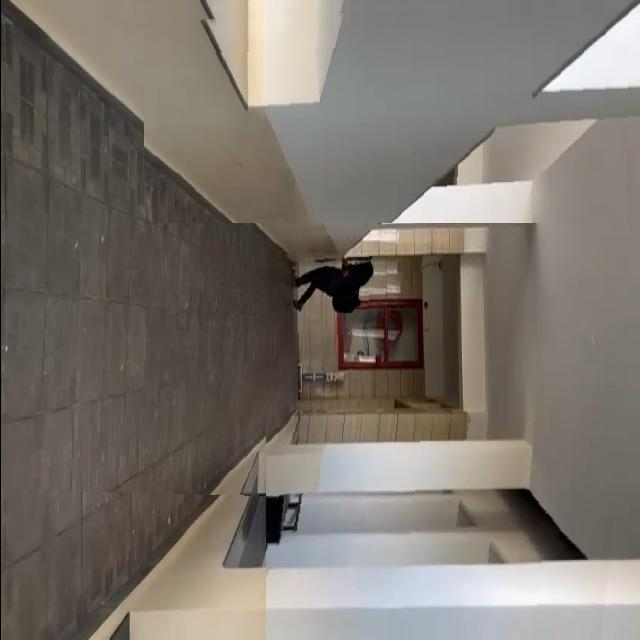floor: (0, 214, 276, 496)
moving_object: (284, 251, 380, 334)
wall: (143, 0, 640, 223), (265, 416, 625, 640)
